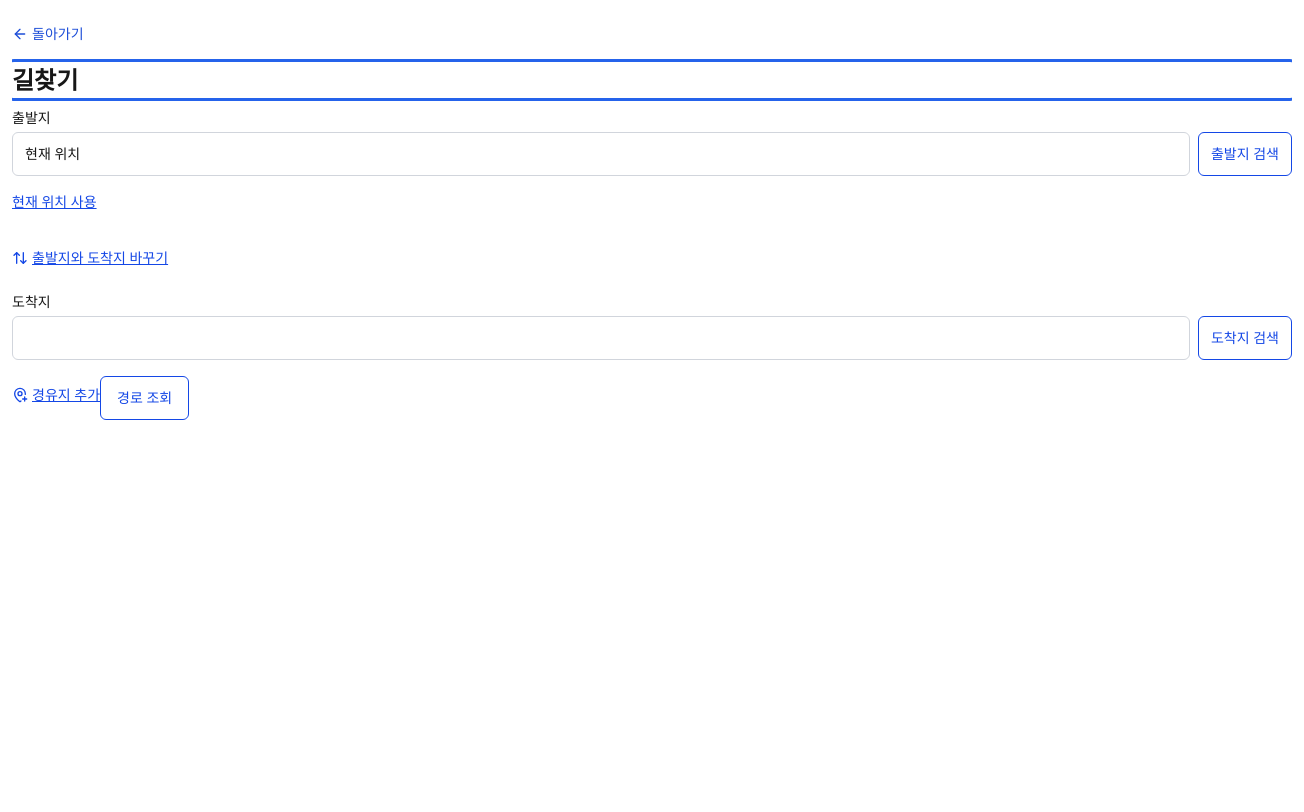
Test: 도보 섹션 조건부 접힘(spec §4.4) › 문턱을 넘는 도보는 접힌 상태로 시작한다
The image size is (1304, 812).
Replace the text in the field labelled "출발지" with "강남": (601, 154) 12,132 -> 1190,176
Click the button "출발지 검색": (1245, 154) 1198,132 -> 1292,176
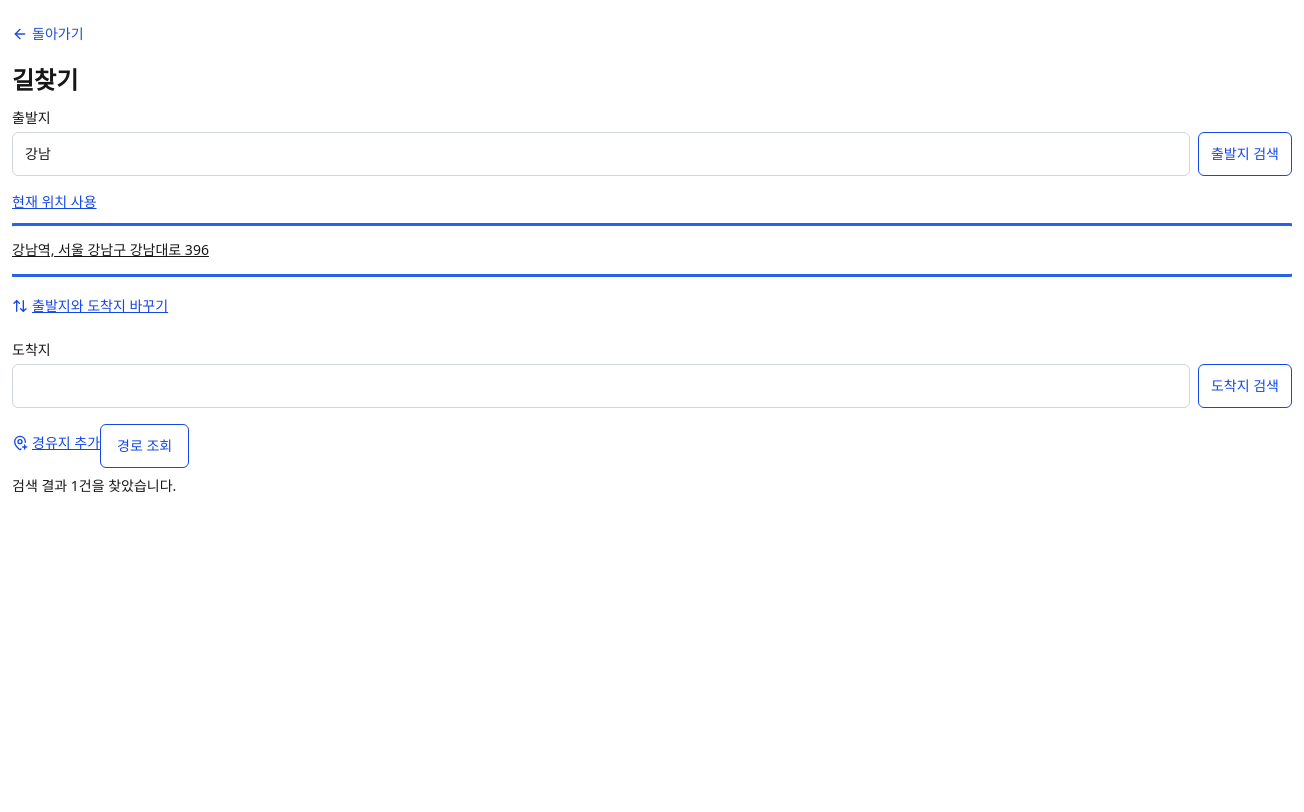
Click the button "강남역, 서울 강남구 강남대로 396": (110, 250) 12,228 -> 1292,272
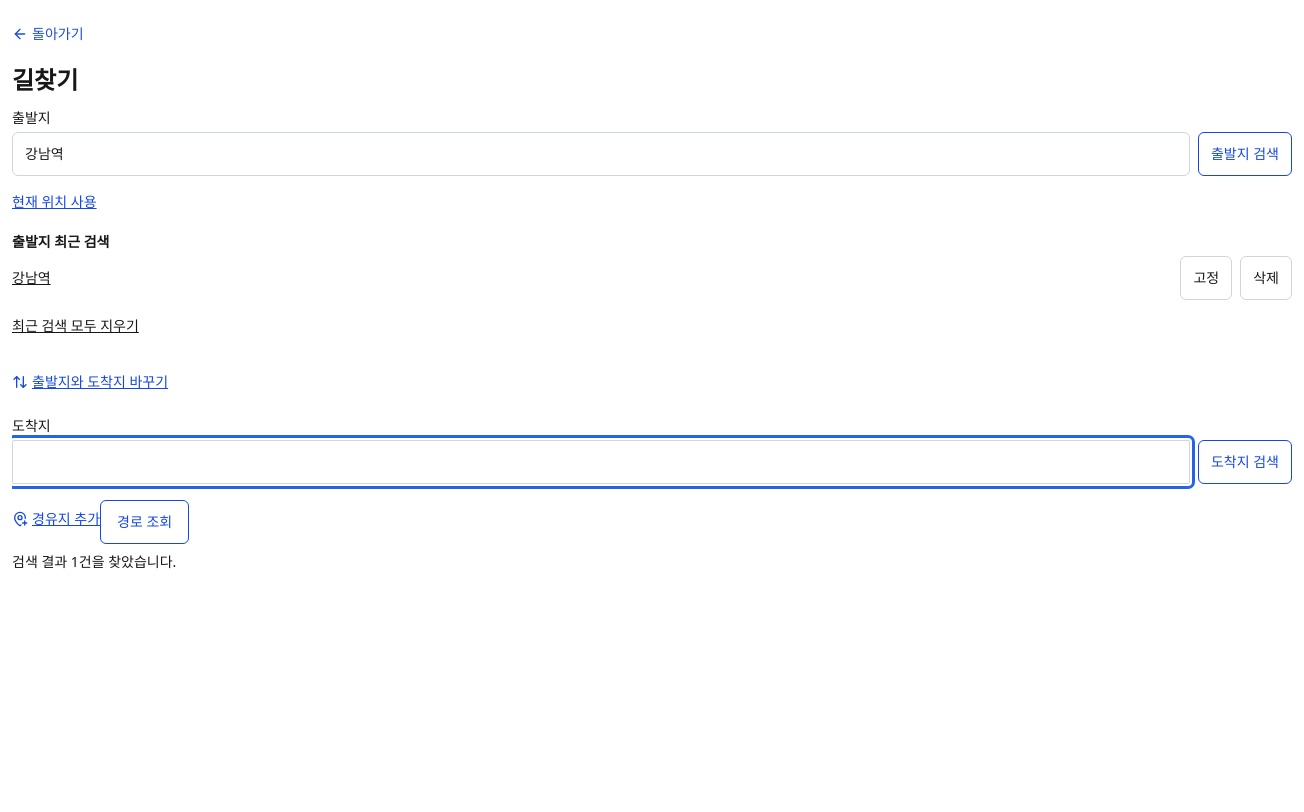
In the field labelled "도착지": (601, 462) 12,440 -> 1190,484, type "강남"
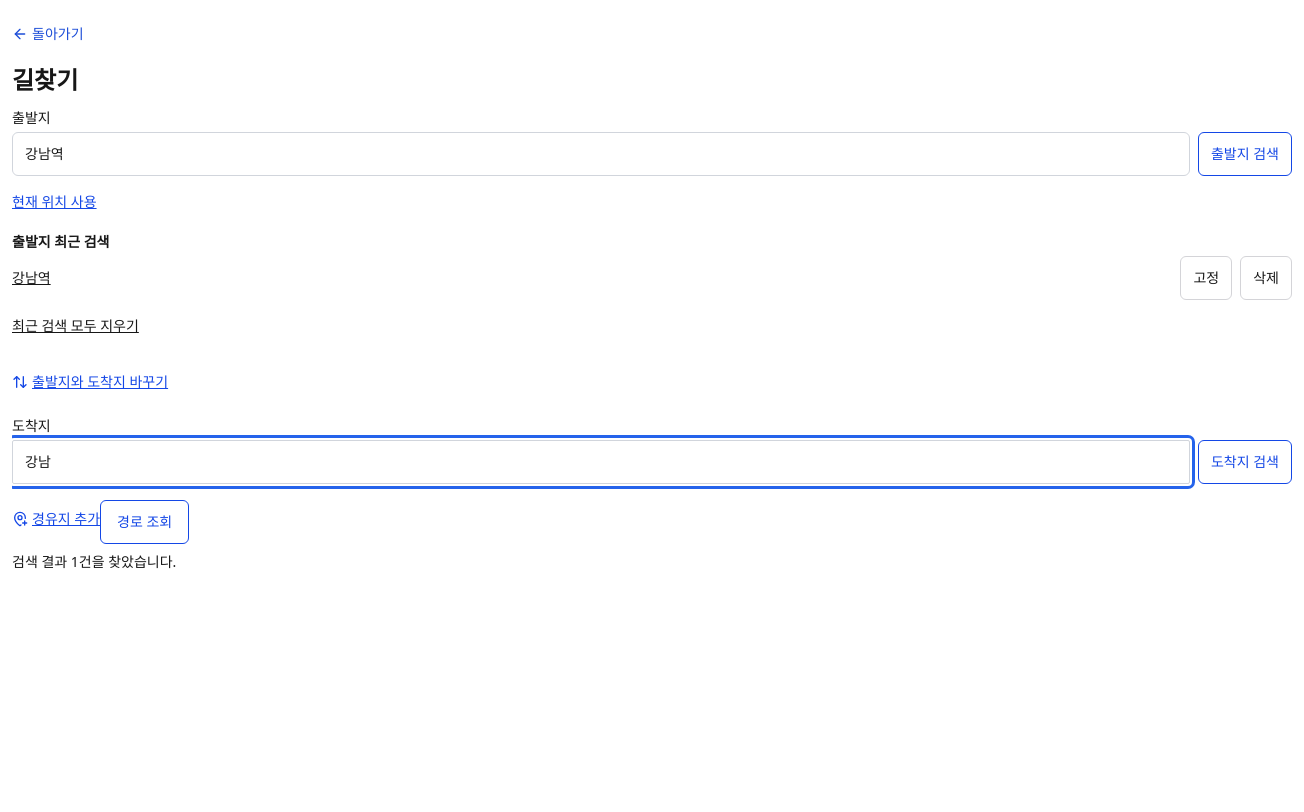
Click the button "도착지 검색": (1245, 462) 1198,440 -> 1292,484
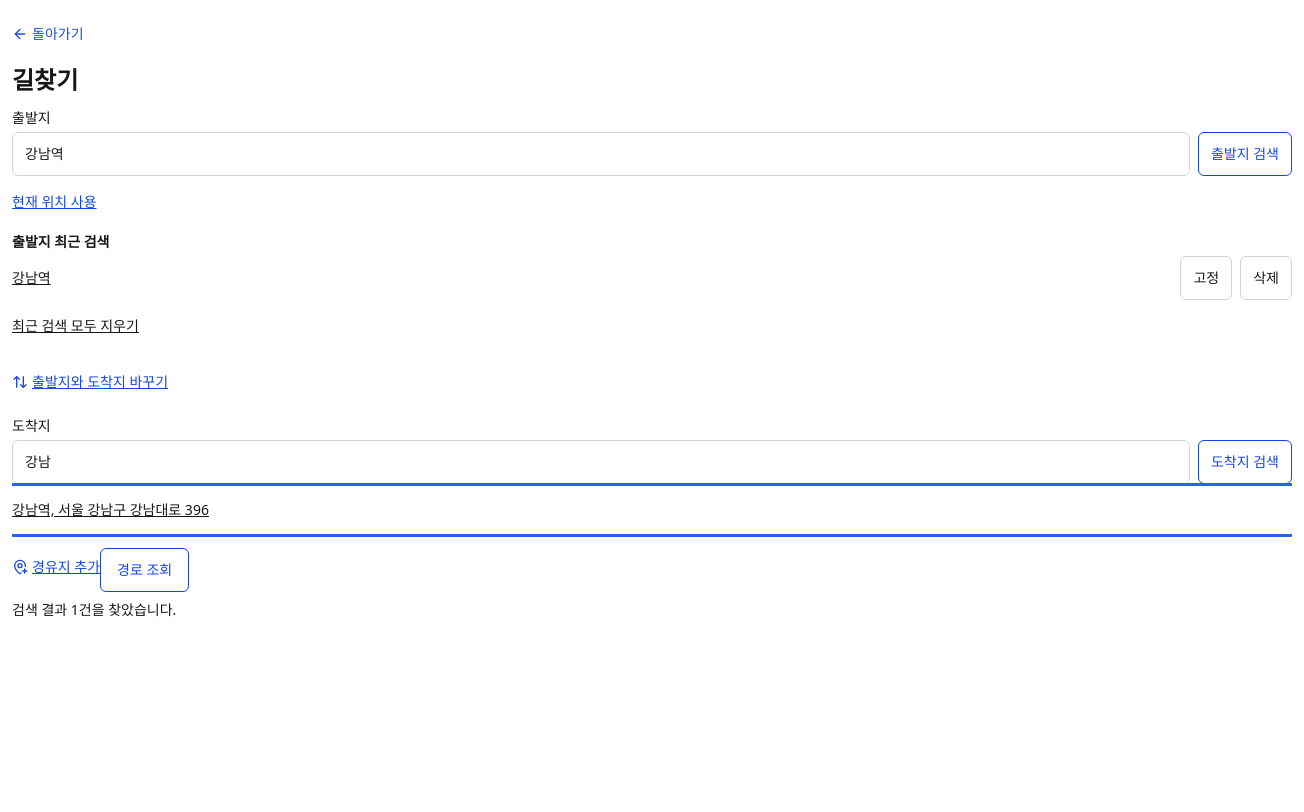
Click the button "강남역, 서울 강남구 강남대로 396": (110, 510) 12,488 -> 1292,532
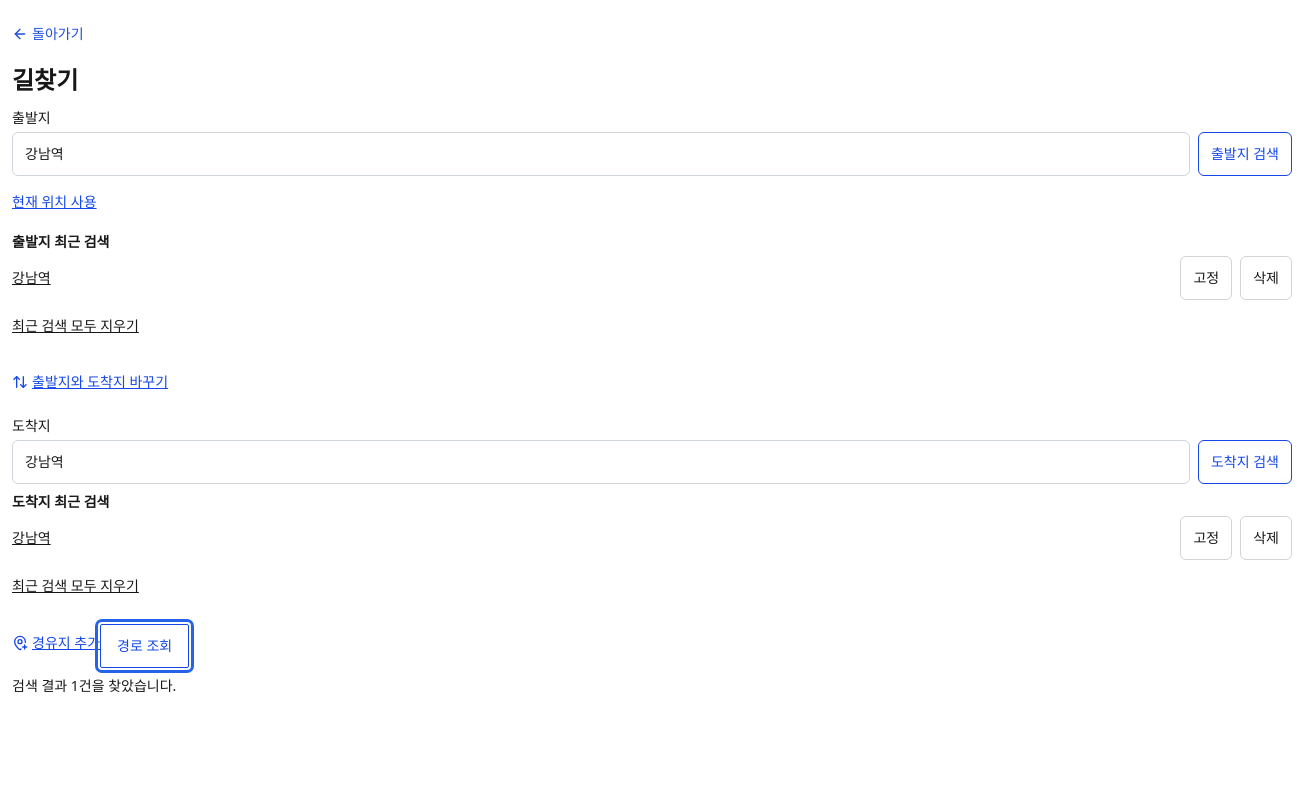
Click the button "경로 조회": (145, 646) 100,624 -> 189,668
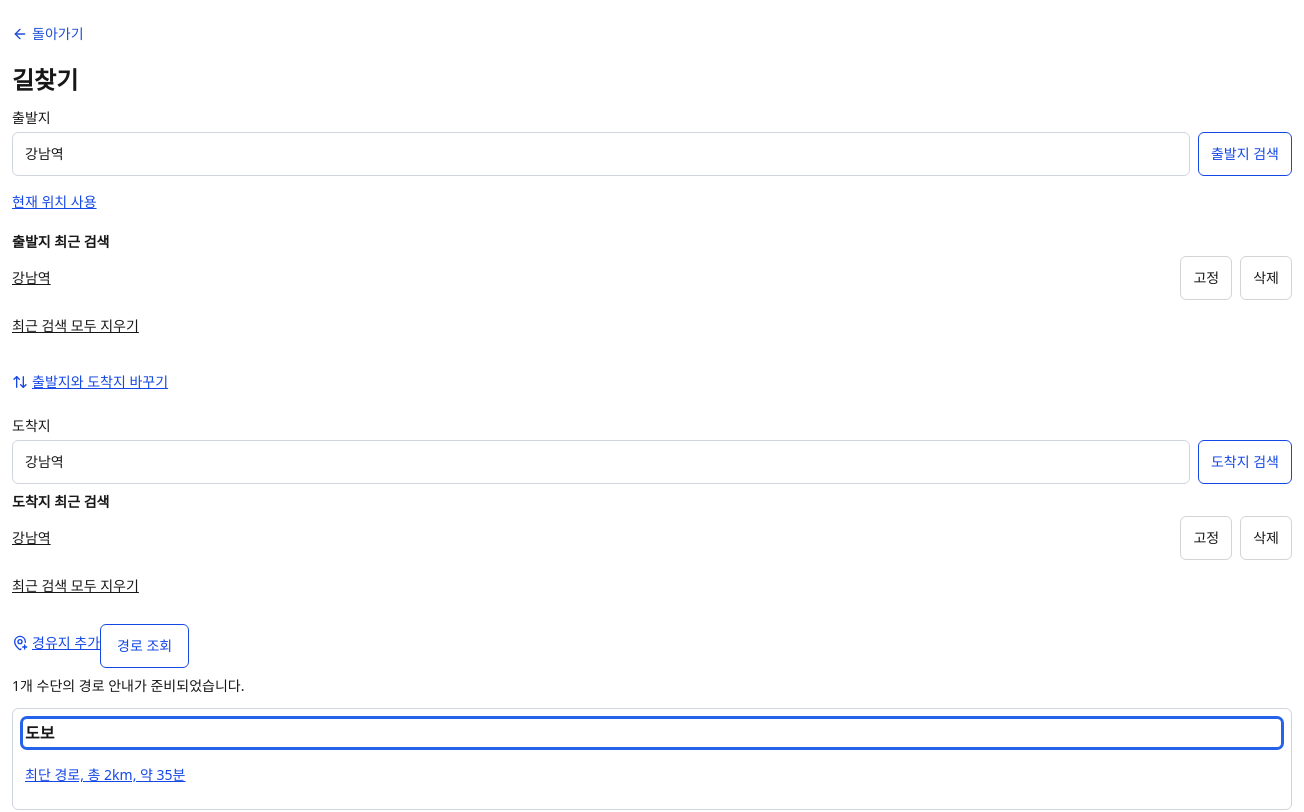
Check: the text "1개 수단의 경로 안내가 준비되었습니다." is shown, box 12,676 -> 244,695
